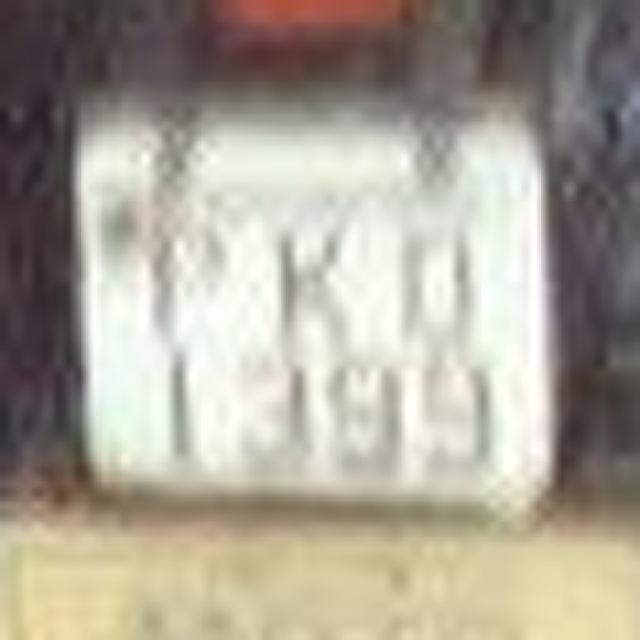1: (144, 336, 211, 472)
5: (411, 332, 504, 476), (229, 340, 316, 468)
P: (144, 228, 224, 348)
X: (268, 212, 360, 348)
